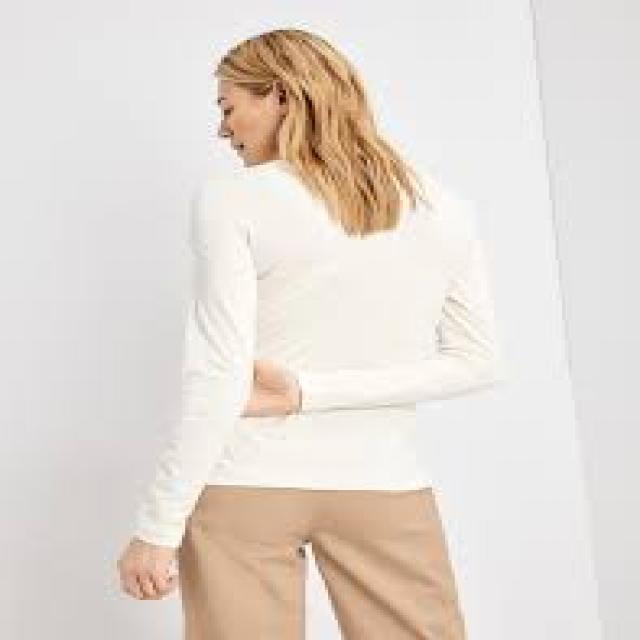plain: (176, 156, 505, 494)
